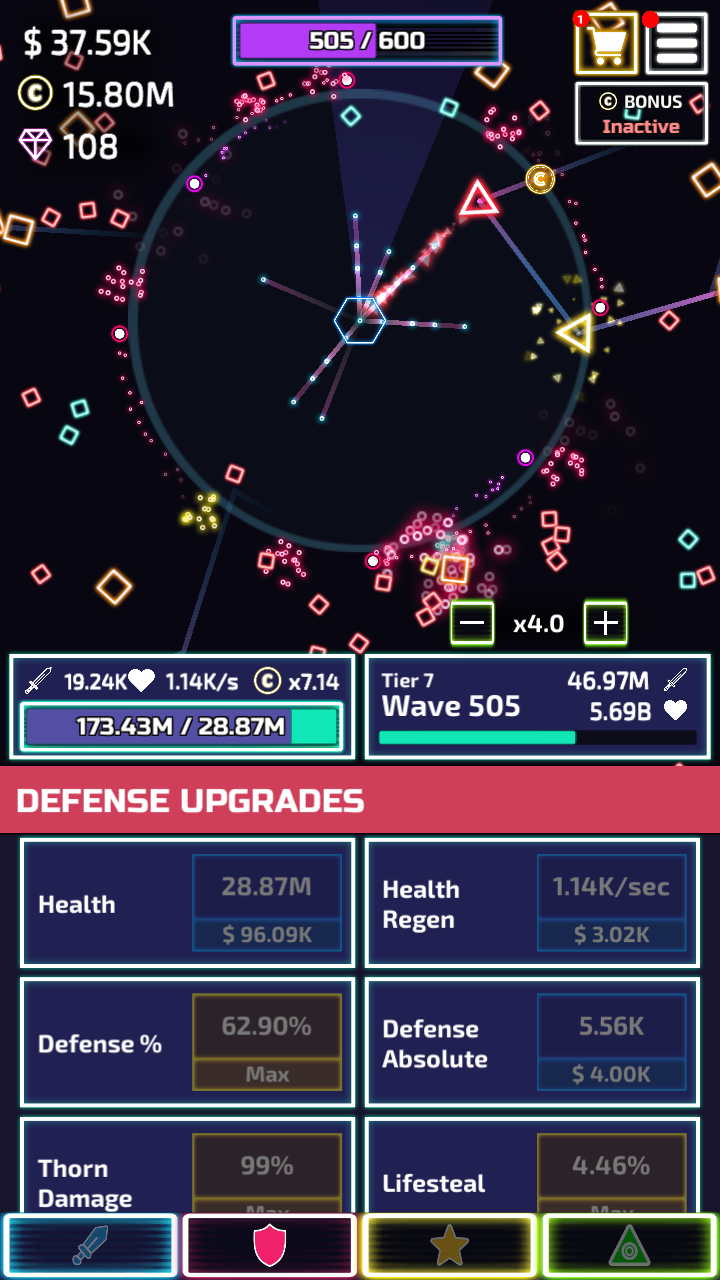B_Menu_Action_Required: (637, 8, 704, 72)
B_Menu_Closed: (573, 9, 708, 74)
B_Shop_Action_Required: (570, 7, 637, 69)
B_Slot: (367, 977, 698, 1101), (366, 838, 698, 961), (17, 838, 353, 959), (21, 978, 353, 1099), (364, 1119, 696, 1208), (20, 1120, 347, 1210)
B_Slot_Button: (533, 997, 689, 1094), (189, 858, 343, 953), (534, 859, 688, 953), (189, 999, 343, 1090), (533, 1136, 688, 1209), (187, 1136, 340, 1208)
B_Slot_Label: (369, 1009, 507, 1080), (23, 1148, 146, 1213), (28, 1021, 174, 1069), (372, 870, 473, 937), (368, 1157, 501, 1203), (26, 881, 137, 926)
B_Slot_Maxed: (186, 993, 344, 1094), (531, 1135, 690, 1209), (185, 1135, 340, 1208)
B_Slot_Price: (207, 918, 326, 947), (555, 1057, 661, 1089), (558, 918, 658, 949)
B_Slot_TooExpensive: (187, 862, 340, 951)
B_Slot_Value: (542, 869, 675, 904), (550, 1144, 666, 1183), (203, 1007, 326, 1043), (203, 867, 324, 903), (554, 1007, 659, 1044), (211, 1147, 311, 1183)
B_Tab_Defense: (4, 769, 718, 834)
